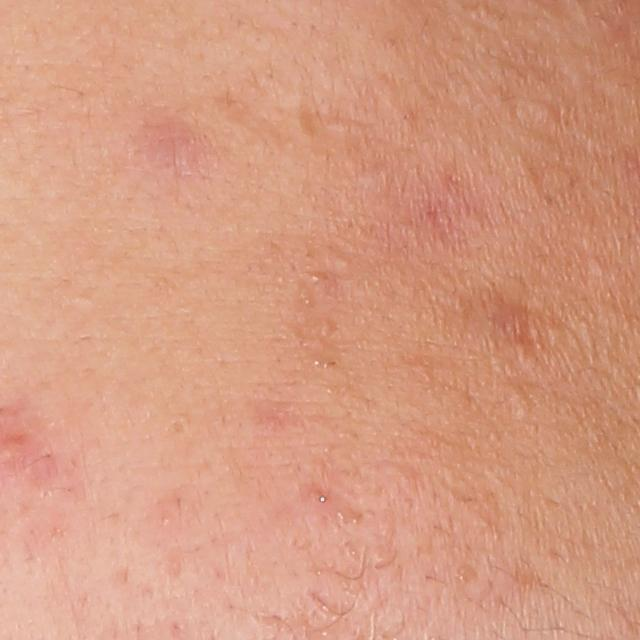comedo: (529, 98, 563, 124), (170, 417, 187, 435)
